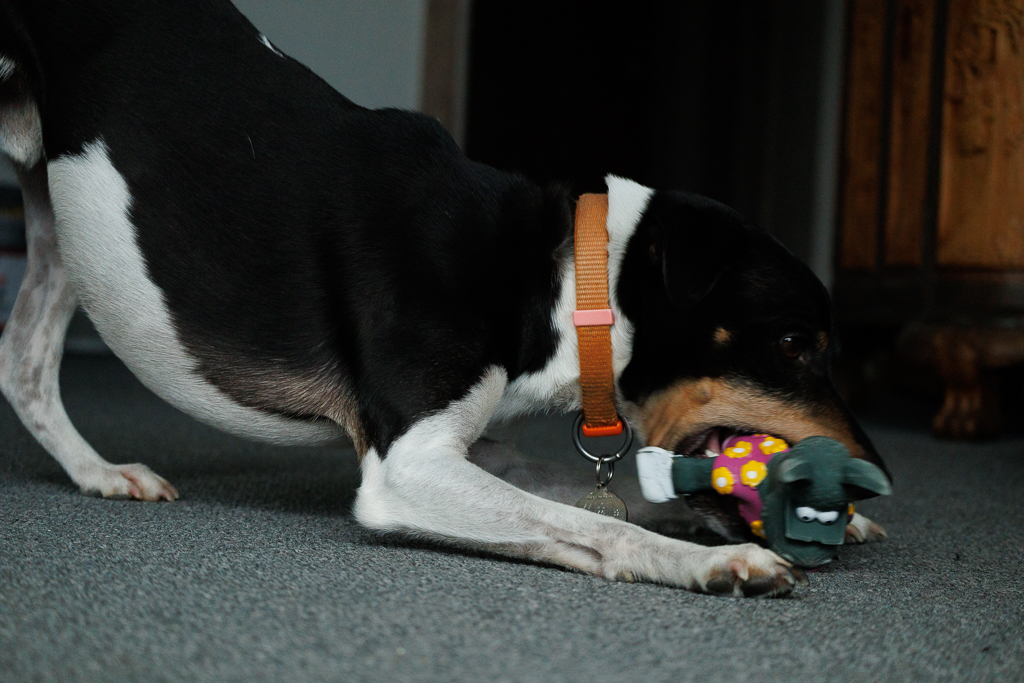Dog: (0, 0, 908, 608)
Humanoid: (625, 402, 905, 584)
